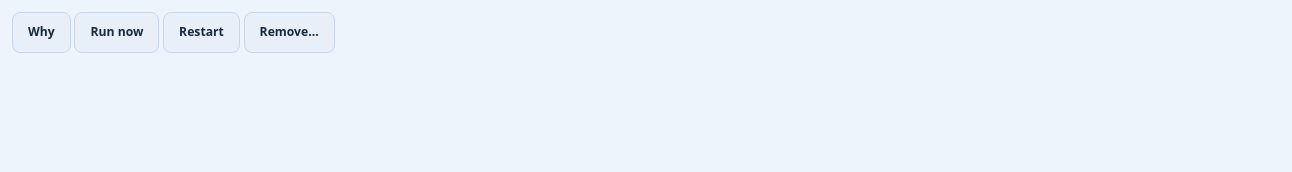
shows a refusal in words
The width and height of the screenshot is (1292, 172).
Click the button "Run now" at (117, 33), box [74,12,159,53]
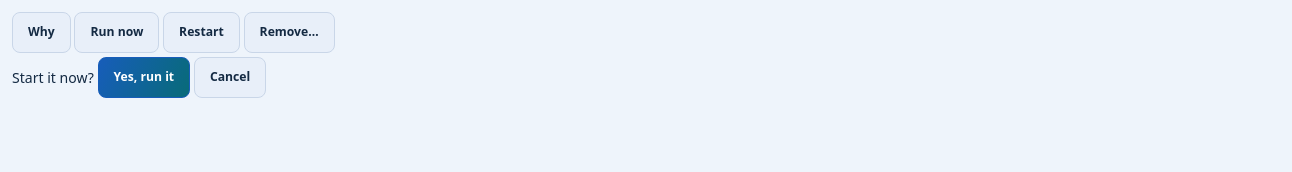
Click the button "Yes, run it" at (144, 78), box [98,57,190,98]
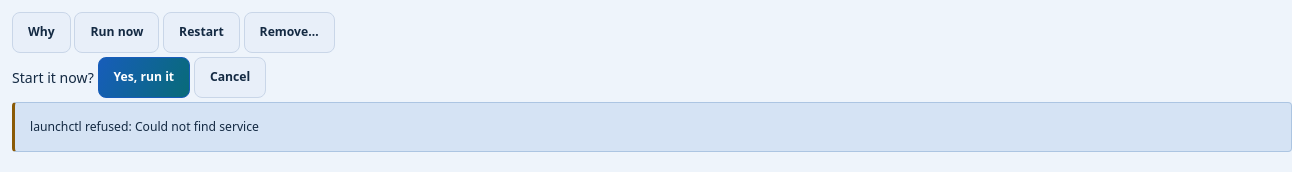
Check: the message "launchctl refused: Could not find service" is shown, box [12,102,1291,152]
